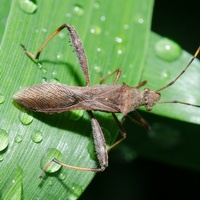insect: (13, 24, 199, 172), (92, 110, 122, 148)
